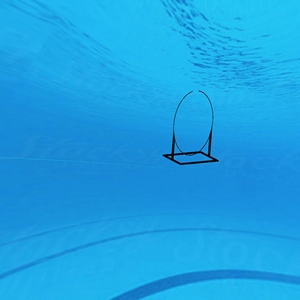circle: (162, 88, 222, 169)
